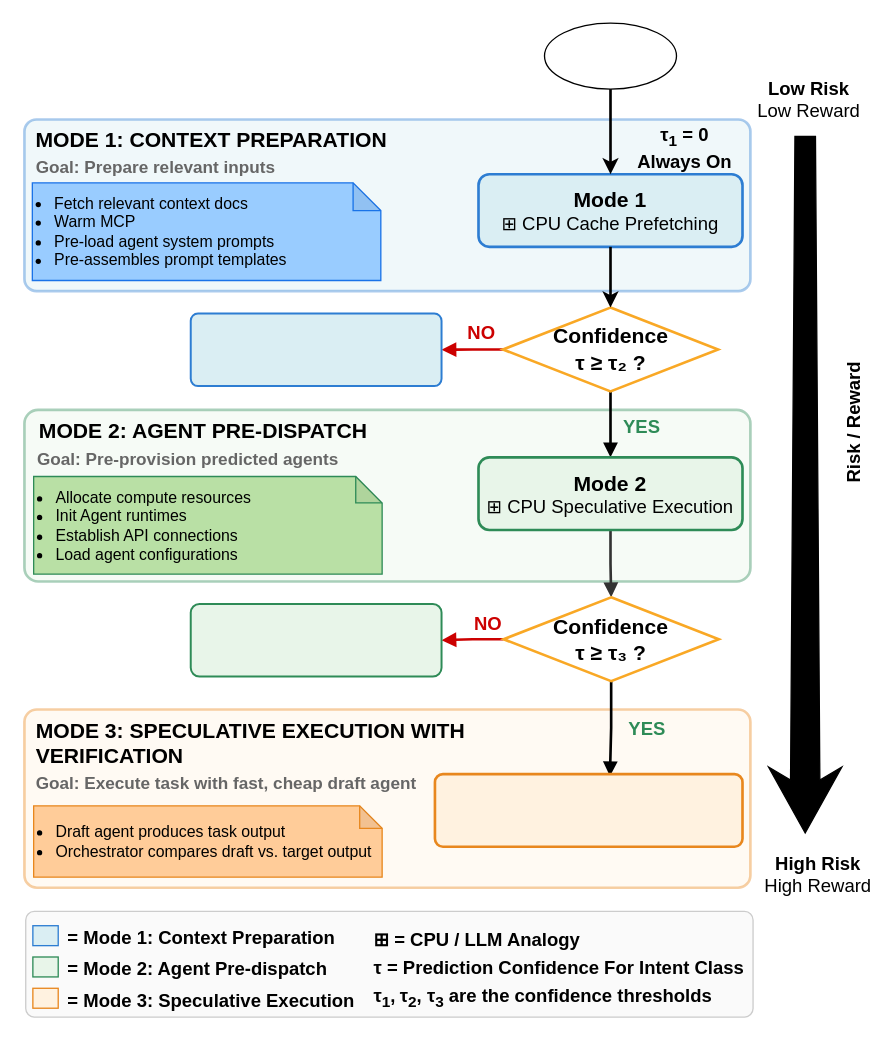
Some shapes in this 894 by 1040 pixel diagram are drawn without their labels. The shapes that lost their labels are listed below. From the top down, each one's centre as x and y in pixels, then its label:
At (609,55): "START".
At (315,349): "Mode 1 only Context ready; Wait for Solver".
At (315,639): "Mode 1 + Mode 2 Agents provisioned;".
At (588,809): "Mode 3 ⊞ LLM Speculative Decoding".
